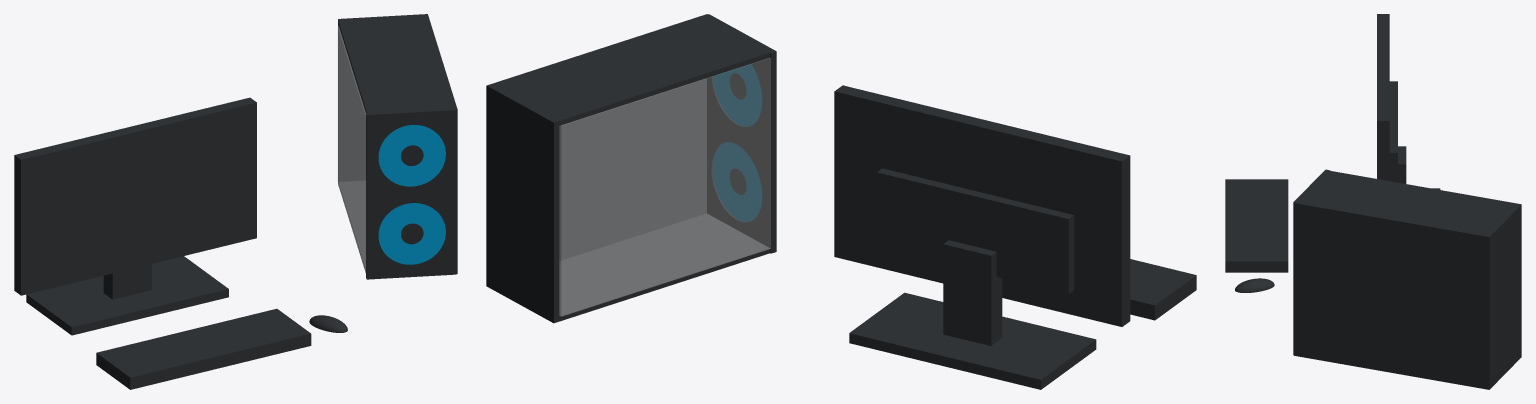
The picture shows the model from 3 angles, left to right: view 1: azimuth 30°, elevation 25°; view 2: azimuth 150°, elevation 25°; view 3: azimuth 270°, elevation 25°; orthographic projection. The views are drawn at different scales.
Visible parts, largest first — view 1: g group_1_2829873, g group_0_-13947343, g group_2_2829873, g group_0_-16736297, g group_0_-1023739142, g group_3_2829873; view 2: g group_0_-13947343, g group_1_2829873, g group_0_-1023739142, g group_0_-16736297, g group_2_2829873; view 3: g group_0_-13947343, g group_2_2829873, g group_1_2829873, g group_3_2829873.
Boxes of the visible parts, x1=… form: g group_1_2829873: x1=14, y1=97, x2=256, y2=335; g group_0_-13947343: x1=338, y1=14, x2=457, y2=279; g group_2_2829873: x1=96, y1=308, x2=311, y2=389; g group_0_-16736297: x1=378, y1=125, x2=445, y2=264; g group_0_-1023739142: x1=338, y1=26, x2=365, y2=271; g group_3_2829873: x1=309, y1=315, x2=347, y2=332; g group_0_-13947343: x1=486, y1=14, x2=776, y2=323; g group_1_2829873: x1=834, y1=85, x2=1130, y2=389; g group_0_-1023739142: x1=559, y1=58, x2=770, y2=316; g group_0_-16736297: x1=712, y1=64, x2=762, y2=221; g group_2_2829873: x1=1130, y1=259, x2=1196, y2=320; g group_0_-13947343: x1=1293, y1=169, x2=1521, y2=389; g group_2_2829873: x1=1225, y1=179, x2=1288, y2=272; g group_1_2829873: x1=1377, y1=14, x2=1440, y2=189; g group_3_2829873: x1=1235, y1=278, x2=1274, y2=292.
Bounding box in the file's own units: 11.89 × 4.3 × 7.04.
